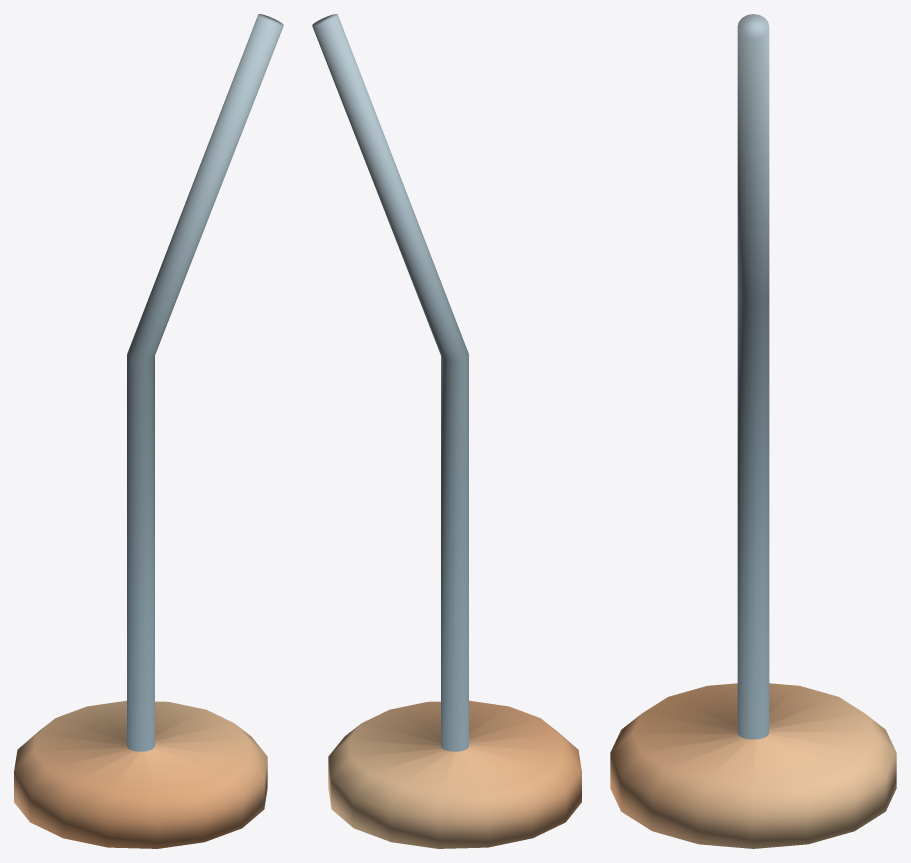
The model's file is Lamp.fbx.
3 renders of one model, left to right at view 1: azimuth 30°, elevation 25°; view 2: azimuth 150°, elevation 25°; view 3: azimuth 270°, elevation 25°, orthographic. The views are drawn at different scales.
Visible parts, largest first — view 1: Lamp; view 2: Lamp; view 3: Lamp.
Boxes of the visible parts, left/top/right/bottom form: Lamp: left=14, top=14, right=283, bottom=848; Lamp: left=312, top=14, right=581, bottom=848; Lamp: left=610, top=14, right=896, bottom=848.
Size of the model in its own units: 0.5308 by 1.72 by 0.6034.
